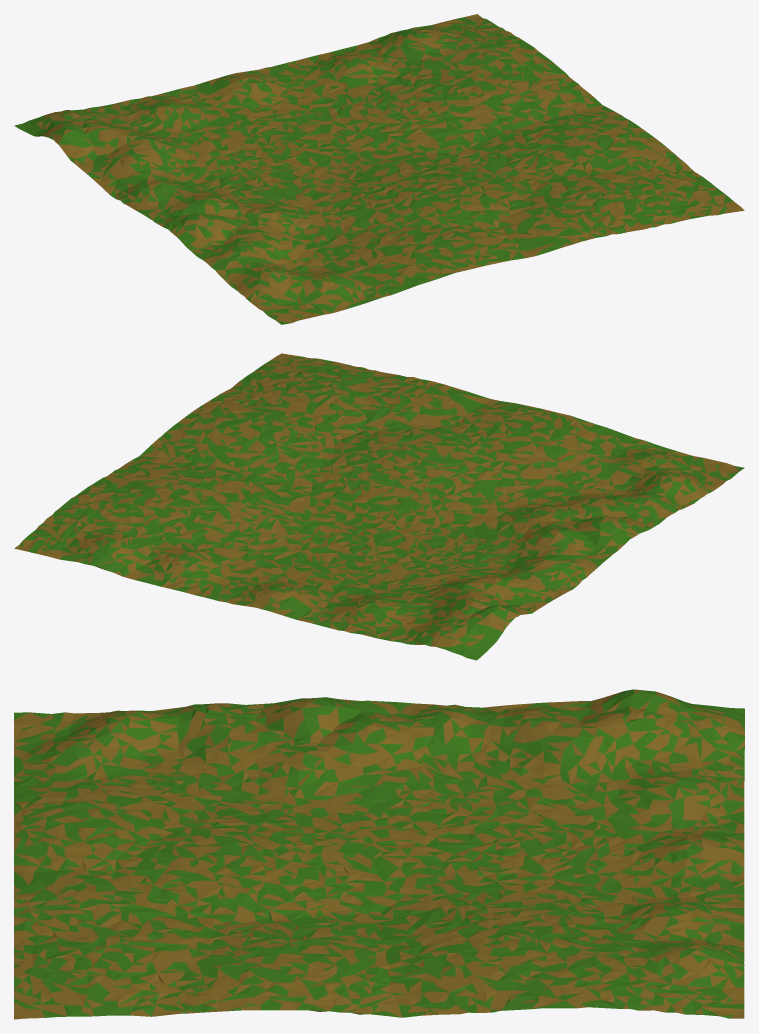
The model's file is les_sosnoviy.obj.
3 views of the same model, one above another, from view 1: azimuth 30°, elevation 25°; view 2: azimuth 150°, elevation 25°; view 3: azimuth 270°, elevation 25° (orthographic). The views are drawn at different scales.
Visible parts, largest first — view 1: Plane; view 2: Plane; view 3: Plane.
Boxes of the visible parts, x1,y1,x2,y2 form: Plane: [14, 14, 744, 324]; Plane: [14, 353, 744, 660]; Plane: [14, 689, 744, 1019].
Size of the model in its own units: 56.94 by 2.88 by 56.98.
